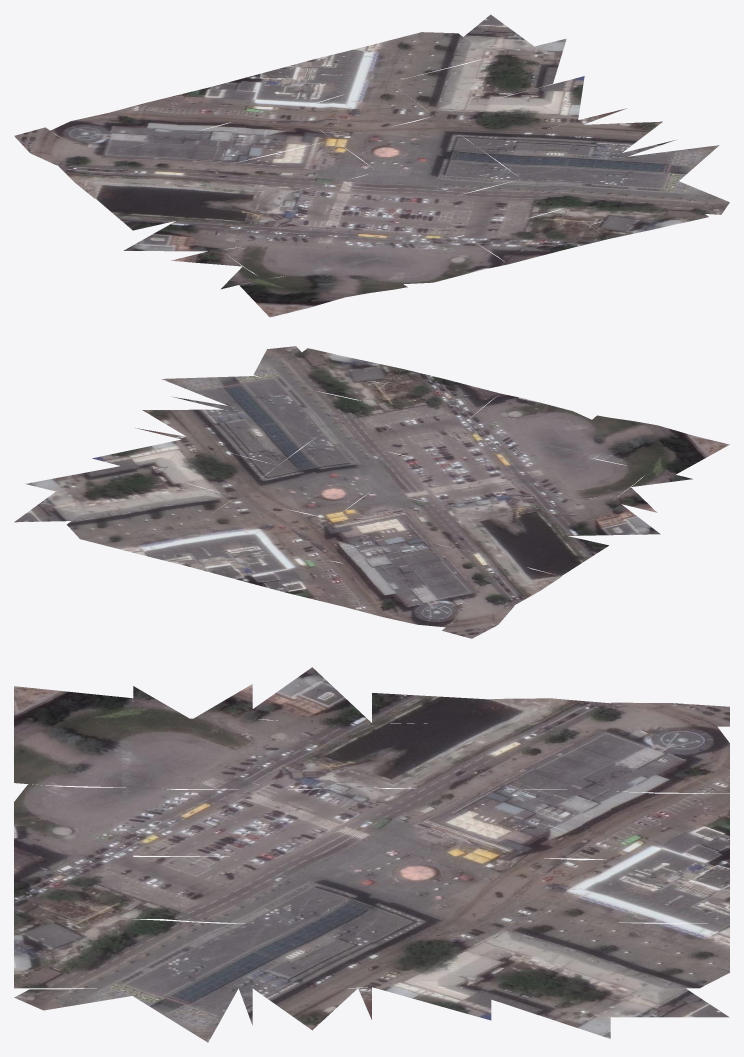
3 renders of one model, top to bottom at view 1: azimuth 30°, elevation 25°; view 2: azimuth 150°, elevation 25°; view 3: azimuth 270°, elevation 25°, orthographic. The views are drawn at different scales.
Parts seen in each view (by area): view 1: 3060516043734370640, 3060516043734361750; view 2: 3060516043734361750, 3060516043734370640; view 3: 3060516043734361750, 3060516043734370640.
Boxes of the visible parts, left/top/right/bottom form: 3060516043734370640: left=246, top=14, right=729, bottom=264; 3060516043734361750: left=14, top=77, right=507, bottom=317; 3060516043734361750: left=249, top=393, right=729, bottom=638; 3060516043734370640: left=14, top=346, right=500, bottom=582; 3060516043734361750: left=14, top=667, right=729, bottom=859; 3060516043734370640: left=14, top=852, right=729, bottom=1042.
Bounding box in the file's own units: 282 × 6.56 × 229.
Materials: 16 (16 with a texture image).
